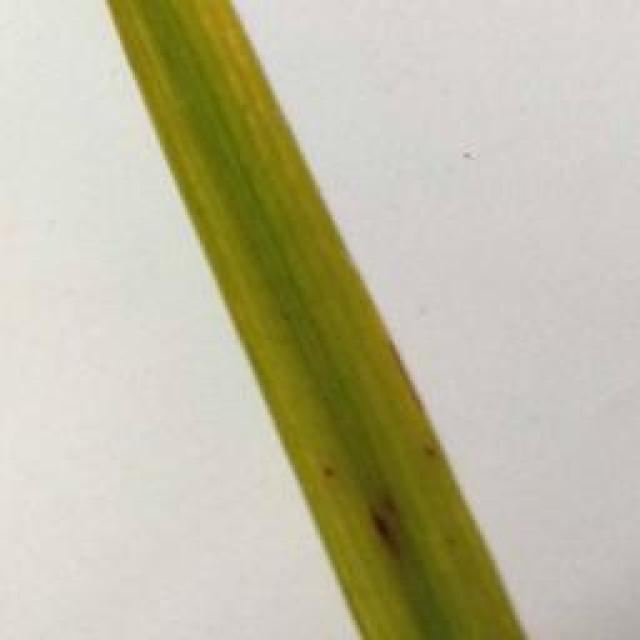Brown_Spot: (361, 506, 415, 564), (380, 488, 416, 527), (315, 448, 344, 488), (424, 424, 449, 461)
